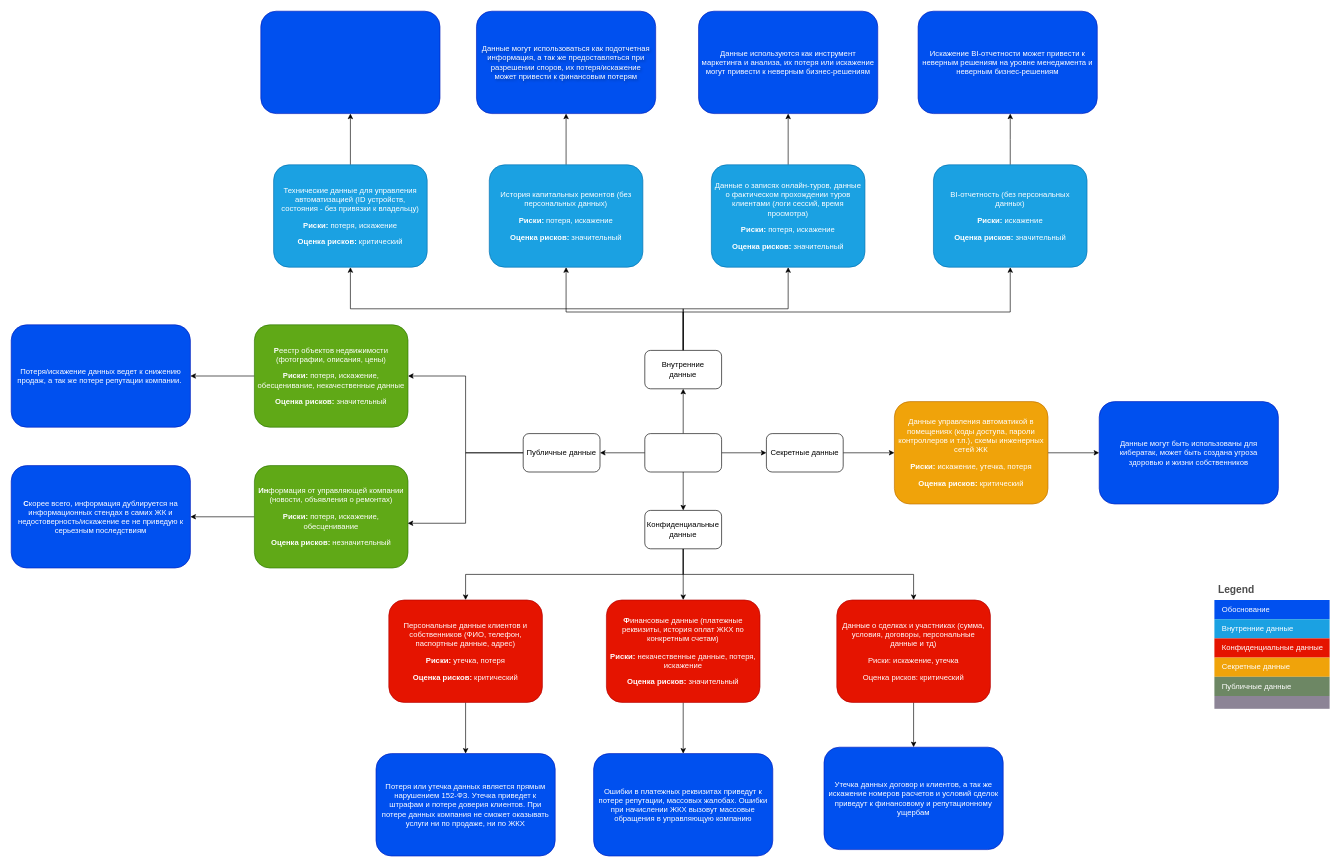
This 1341x867 diagram has some shape labels left out. Here are the shapes that lost their labels. From the top down, the box of each, then its label:
(260, 11, 440, 114): При потере высок риск кибер атак
(644, 433, 722, 472): Безопасность данных
